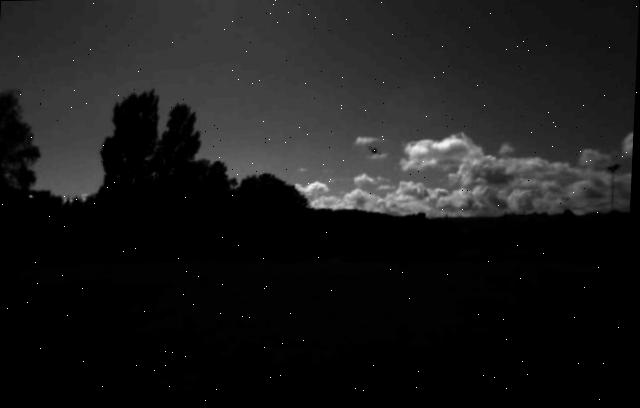drone: (367, 144, 384, 157)
